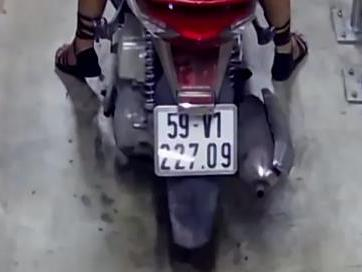num_plate: (152, 105, 236, 176)
